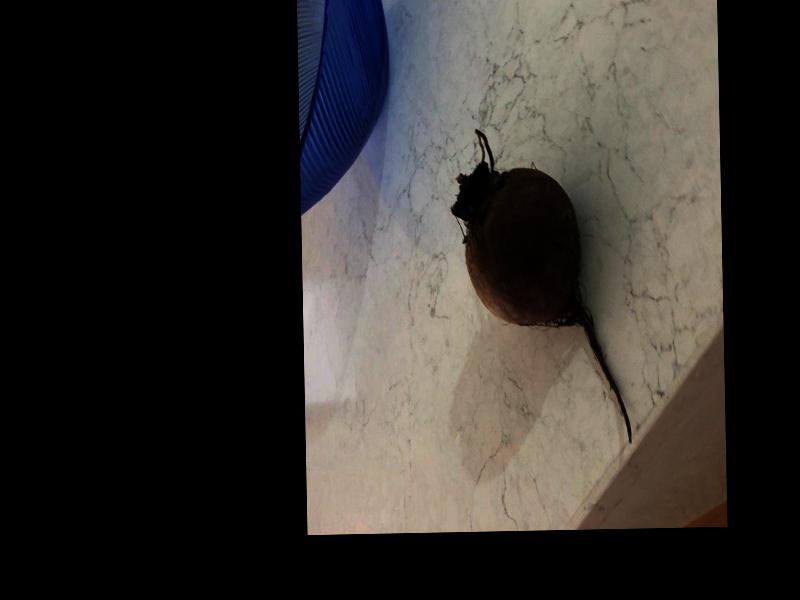Beet: (450, 128, 632, 444)
